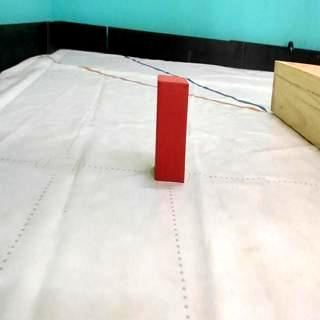redbox: (154, 73, 190, 183)
